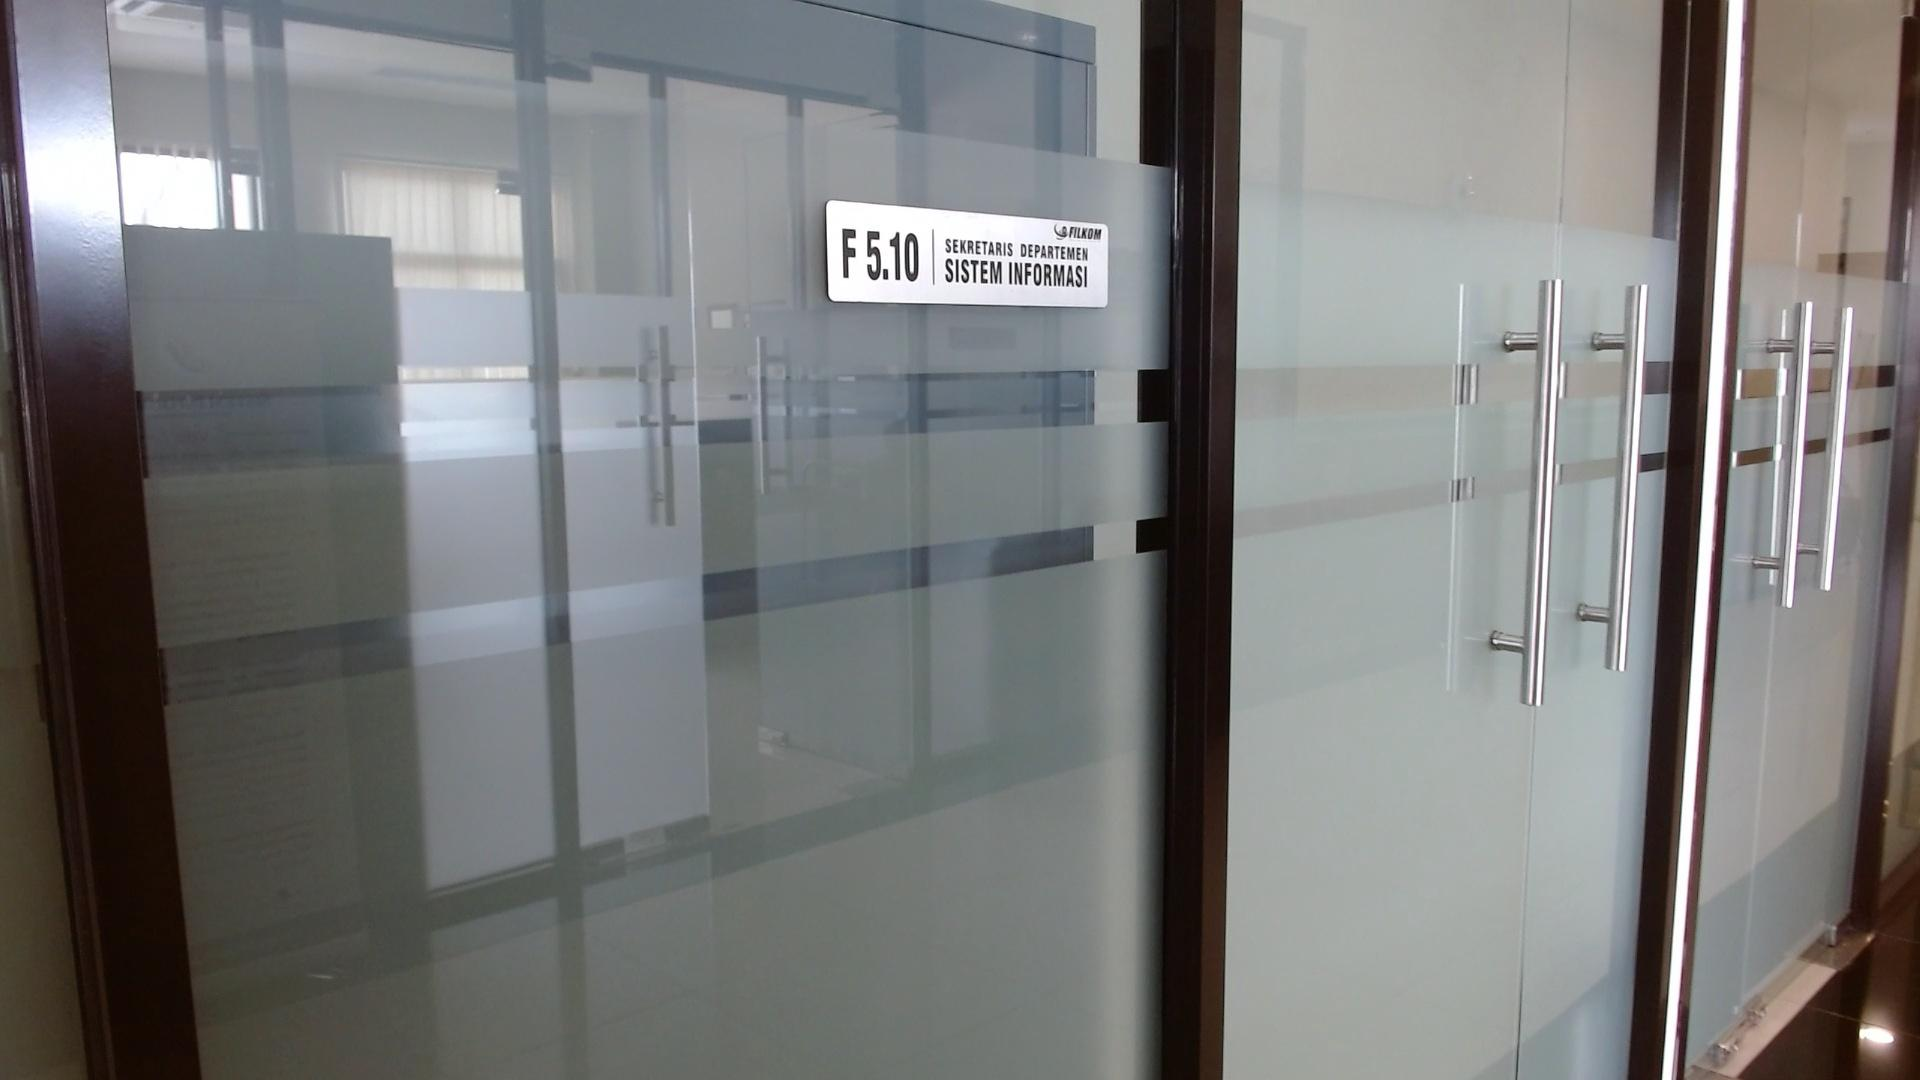plate: (827, 198, 1110, 309)
